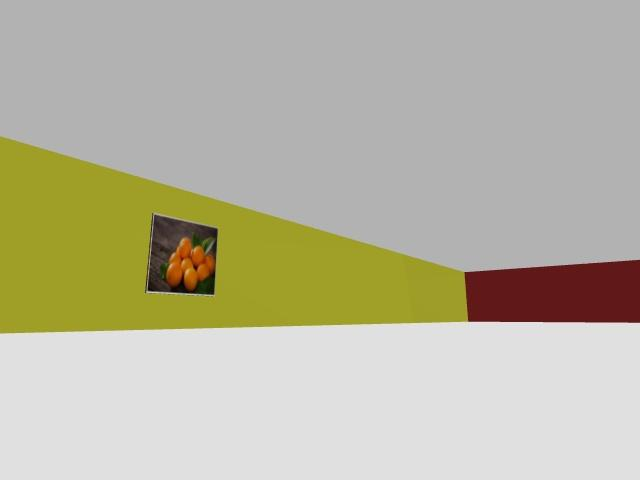orange: (166, 262, 183, 288), (183, 268, 198, 292), (191, 245, 204, 266), (178, 237, 191, 258), (197, 263, 209, 280), (205, 254, 214, 273), (181, 258, 193, 271), (169, 251, 181, 263), (175, 245, 179, 254)
